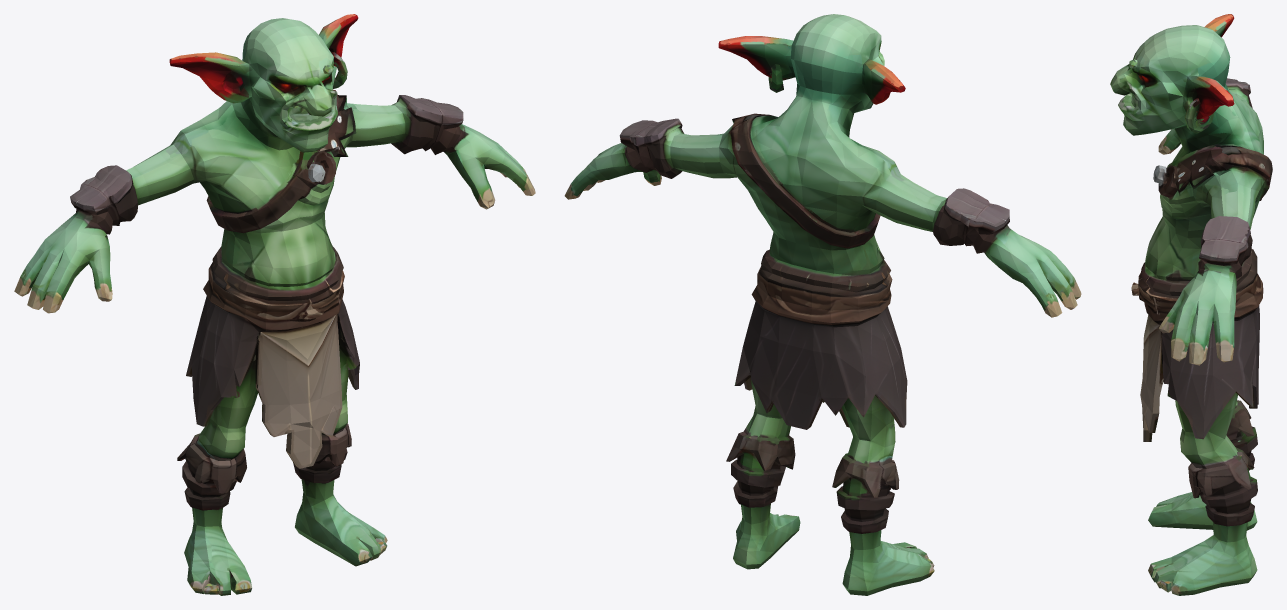
File: goblin.obj
3 views of the same model, side by side, from view 1: azimuth 30°, elevation 25°; view 2: azimuth 150°, elevation 25°; view 3: azimuth 270°, elevation 25° (orthographic). The views are drawn at different scales.
Visible parts, largest first — view 1: texture_pbr_v128; view 2: texture_pbr_v128; view 3: texture_pbr_v128.
Boxes of the visible parts, <box> form: texture_pbr_v128: <box>14,14,535,595</box>; texture_pbr_v128: <box>564,14,1081,595</box>; texture_pbr_v128: <box>1110,14,1272,595</box>.
Size of the model in its own units: 1.09 by 1.13 by 0.3186.
Materials: 1 (1 with a texture image).
